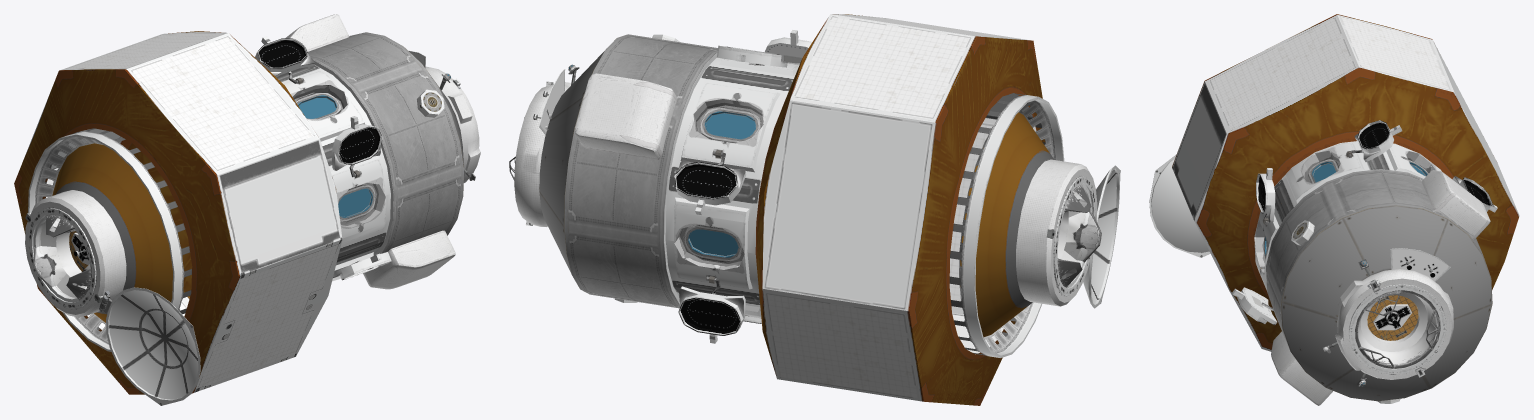
The model's file is ermxl.dae.
The picture shows the model from 3 angles, left to right: view 1: azimuth 30°, elevation 25°; view 2: azimuth 150°, elevation 25°; view 3: azimuth 270°, elevation 25°; orthographic projection. The views are drawn at different scales.
Parts seen in each view (by area): view 1: ERMXL_LoRes.001, NDS port passive.003, NDS Shutter.006, NDS port active.008, NDS port passive hatch.003; view 2: ERMXL_LoRes.001, NDS port passive.003, NDS port active.008, NDS Shutter.006; view 3: ERMXL_LoRes.001, NDS port active.008, NDS Shutter.006, NDS port active hatch.008.
Part boxes in pixels (<box>): ERMXL_LoRes.001: <box>14,14,463,394</box>; NDS port passive.003: <box>25,190,126,317</box>; NDS Shutter.006: <box>104,287,200,405</box>; NDS port active.008: <box>408,50,480,182</box>; NDS port passive hatch.003: <box>69,231,89,271</box>; ERMXL_LoRes.001: <box>539,14,1064,405</box>; NDS port passive.003: <box>1016,159,1101,306</box>; NDS port active.008: <box>509,64,579,226</box>; NDS Shutter.006: <box>1083,165,1120,308</box>; ERMXL_LoRes.001: <box>1172,14,1519,405</box>; NDS port active.008: <box>1323,248,1453,386</box>; NDS Shutter.006: <box>1149,154,1210,257</box>; NDS port active hatch.008: <box>1367,295,1418,340</box>.
Size of the model in its own units: 7.21 by 5.37 by 4.88.
3 materials, 3 textured.
